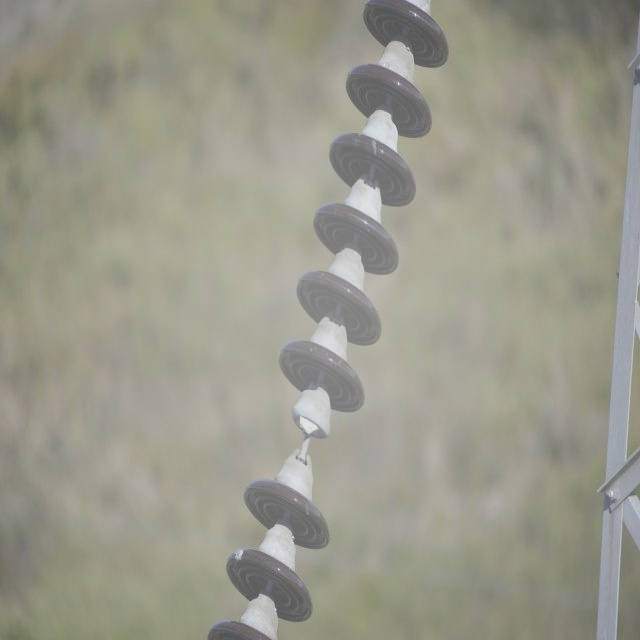broken: (292, 406, 323, 438)
insulator: (204, 1, 448, 636)
